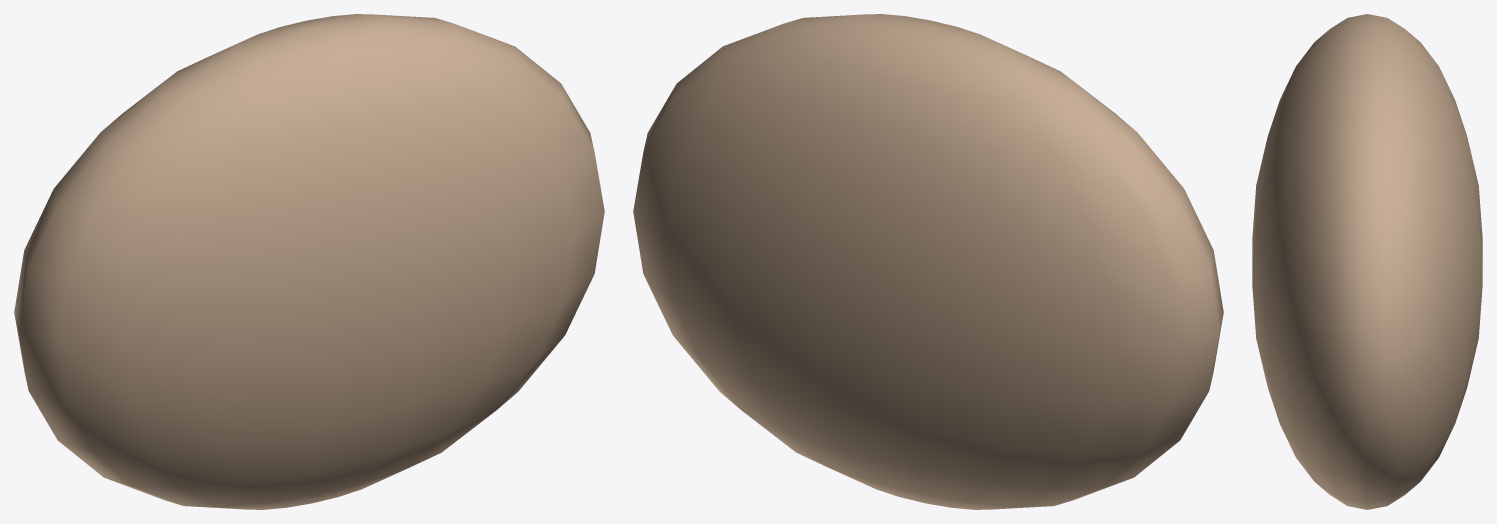
The model's file is full_beard.glb.
The picture shows the model from 3 angles, left to right: view 1: azimuth 30°, elevation 25°; view 2: azimuth 150°, elevation 25°; view 3: azimuth 270°, elevation 25°; orthographic projection. The views are drawn at different scales.
Visible parts, largest first — view 1: Full Beard; view 2: Full Beard; view 3: Full Beard.
Boxes of the visible parts, <box> form: Full Beard: <box>14,14,604,509</box>; Full Beard: <box>633,14,1223,509</box>; Full Beard: <box>1252,14,1482,509</box>.
Size of the model in its own units: 0.52 by 0.4 by 0.197.
